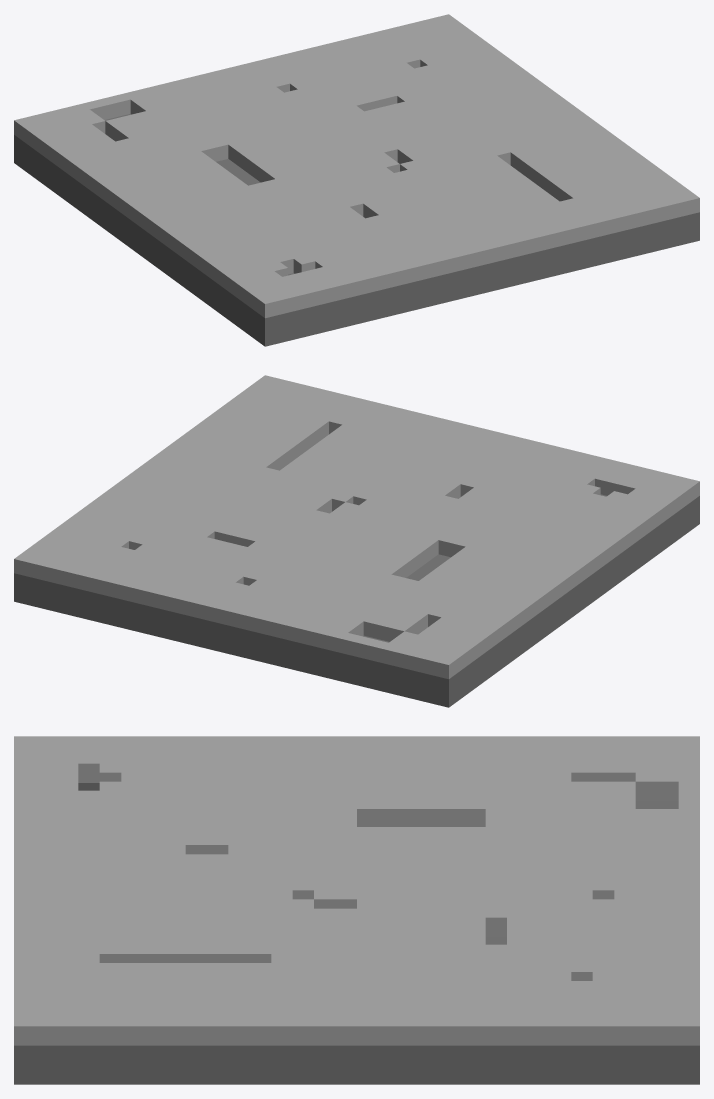
File: BasicFloor.obj
3 renders of one model, top to bottom at view 1: azimuth 30°, elevation 25°; view 2: azimuth 150°, elevation 25°; view 3: azimuth 270°, elevation 25°, orthographic. The views are drawn at different scales.
Visible parts, largest first — view 1: BasicFloor; view 2: BasicFloor; view 3: BasicFloor.
Part boxes in pixels (bbox=[...]): BasicFloor: bbox=[14, 14, 699, 346]; BasicFloor: bbox=[14, 375, 699, 707]; BasicFloor: bbox=[14, 736, 699, 1084].
Bounding box in the file's own units: 32 × 3 × 32.
